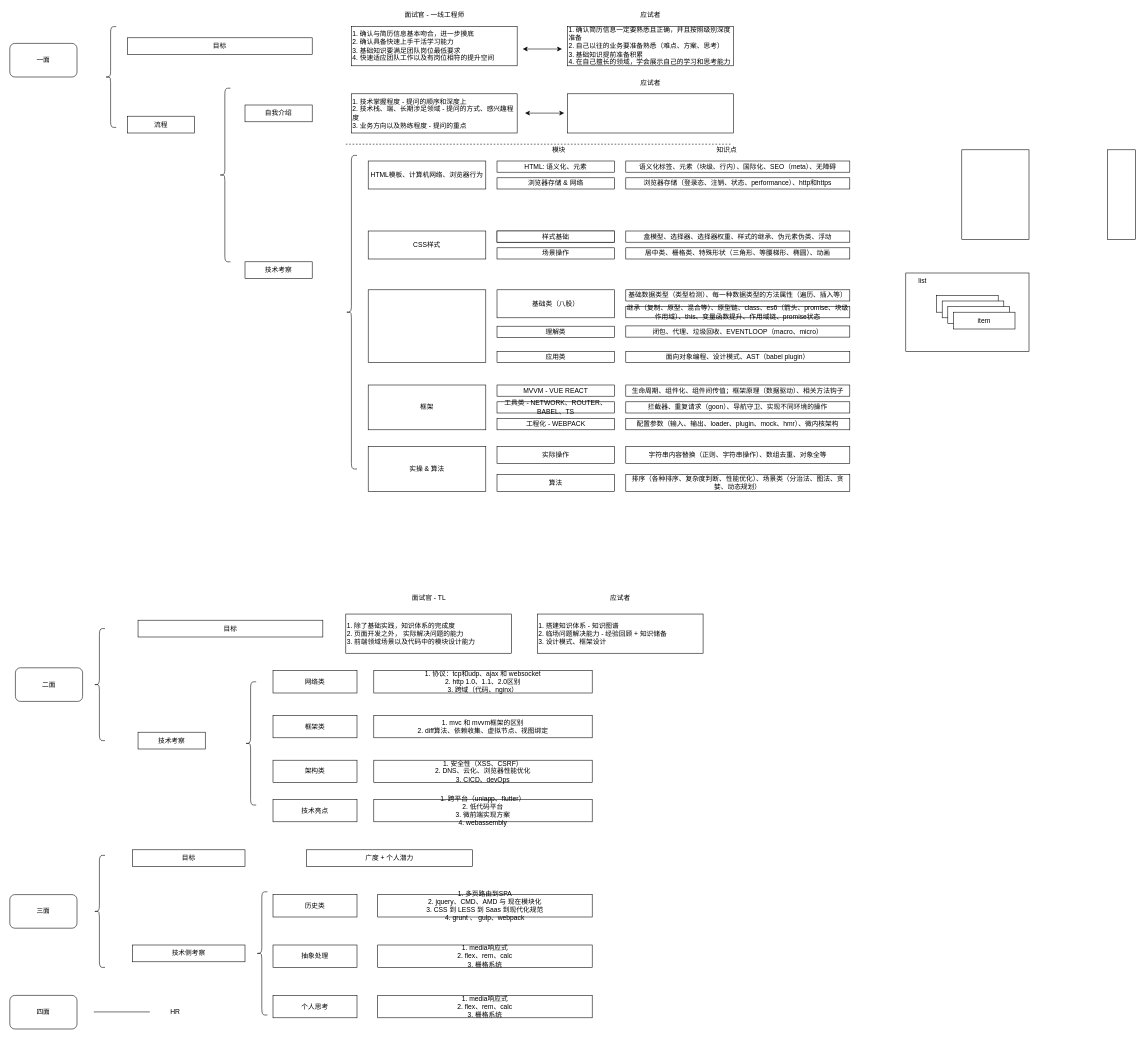
Image size: 1145x1039. Some labels were removed from this diagram. Each missing label, with the centre of its shape:
1. 按照自身掌握的程度，做不同深度的准备 2. 明确罗列自己的技术栈、端、业务领域 3. 尽量不要写自己未知的领域，主动暴露自己擅长的领域，引导提问: point (650, 113)
JS基础: point (427, 326)
queue: point (1121, 194)
stack: point (995, 194)
